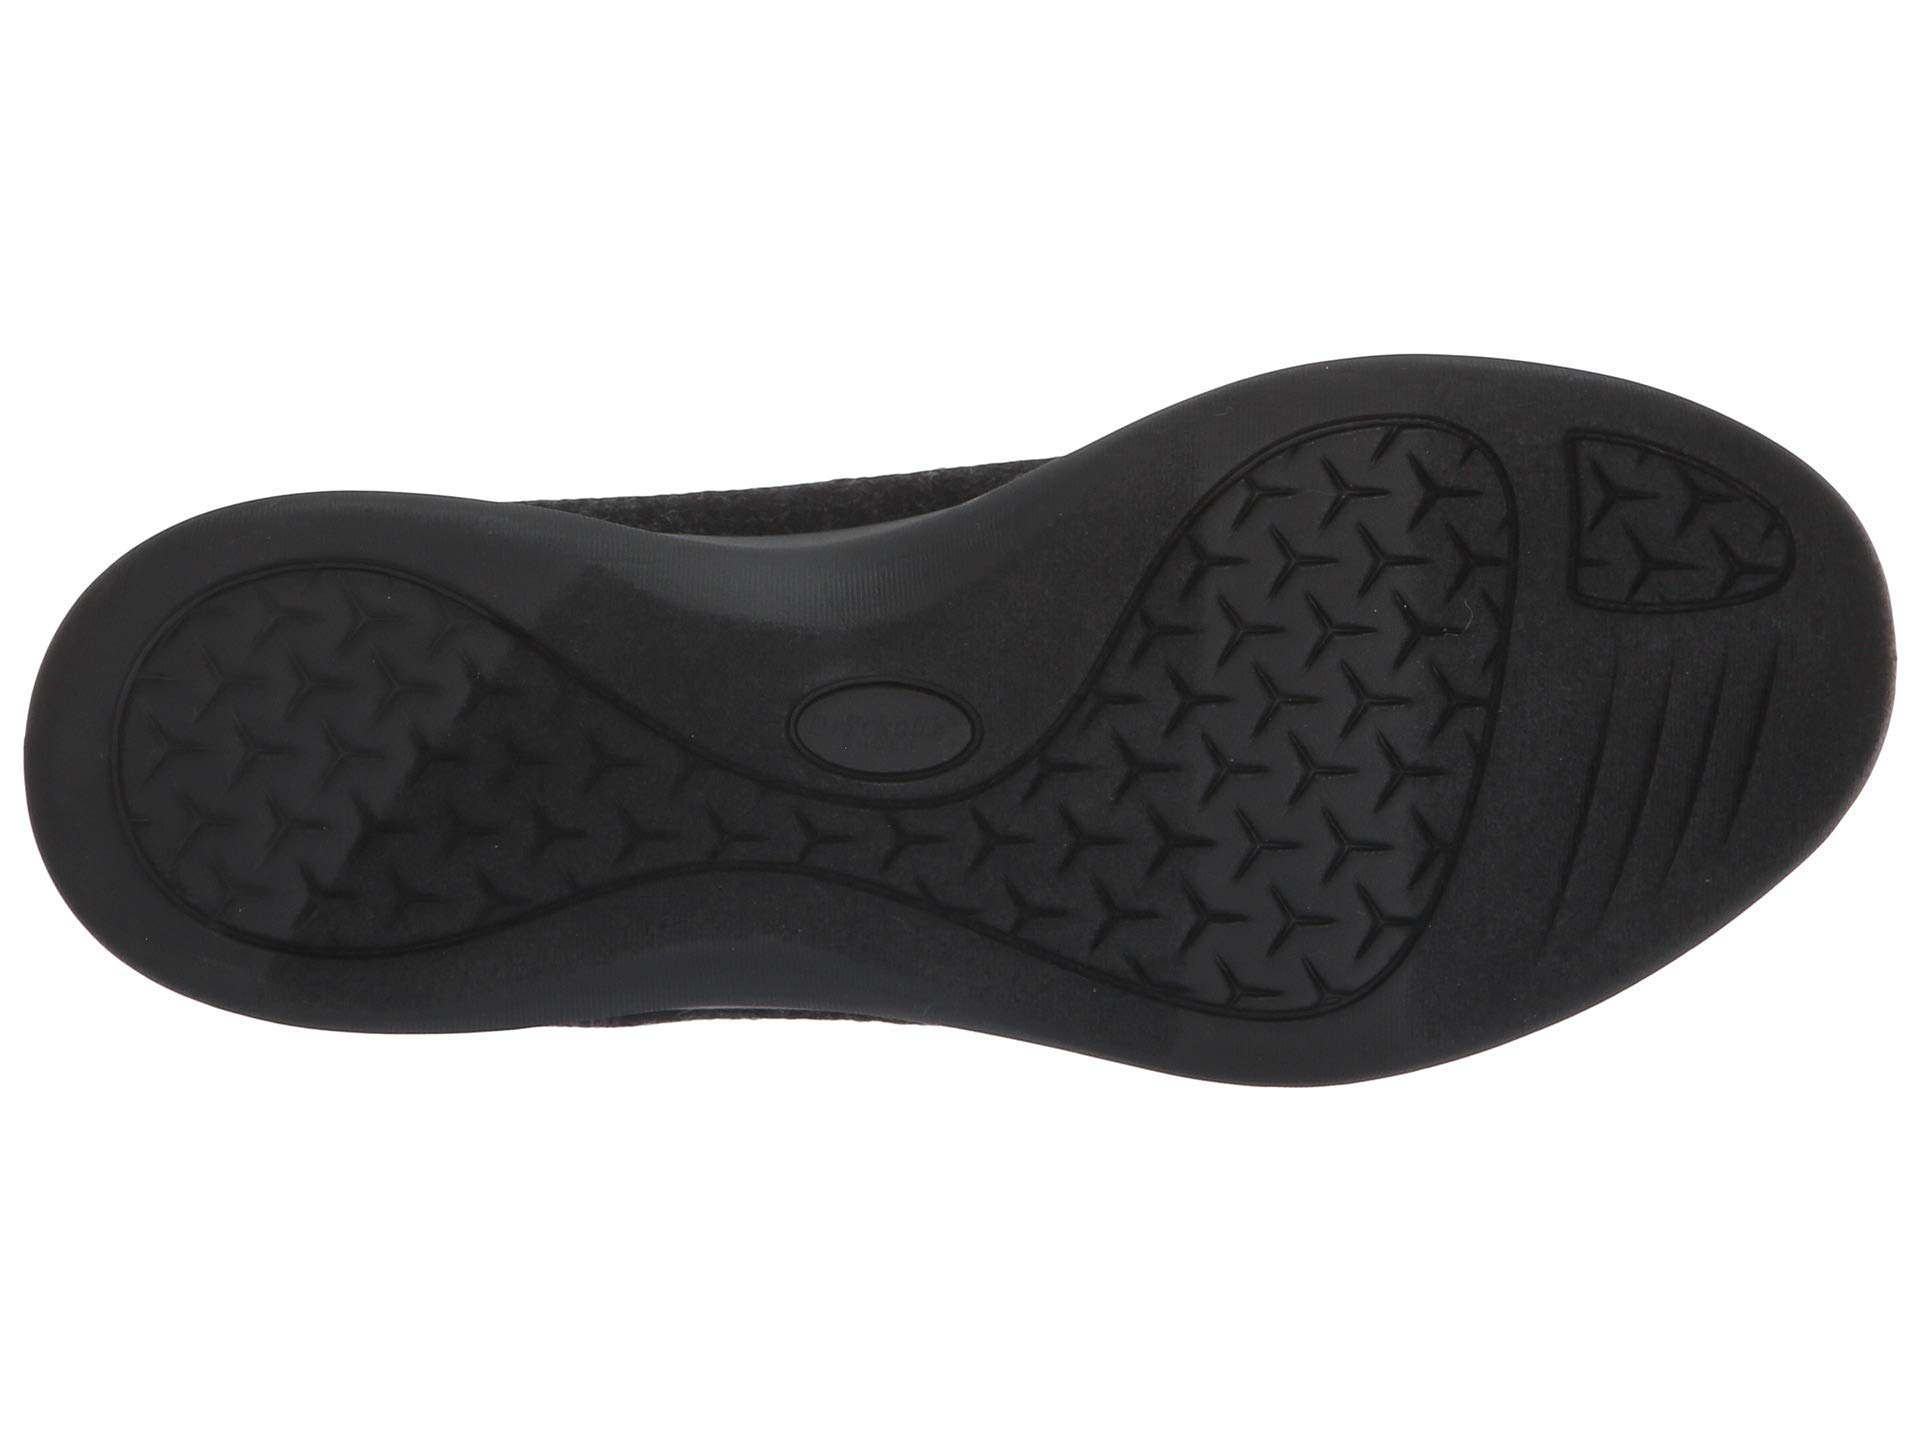circle: (733, 641, 1007, 781)
line: (157, 604, 514, 915), (1548, 610, 1773, 923), (733, 641, 1007, 781)
star: (157, 604, 514, 915)
text: (733, 641, 1007, 781)
